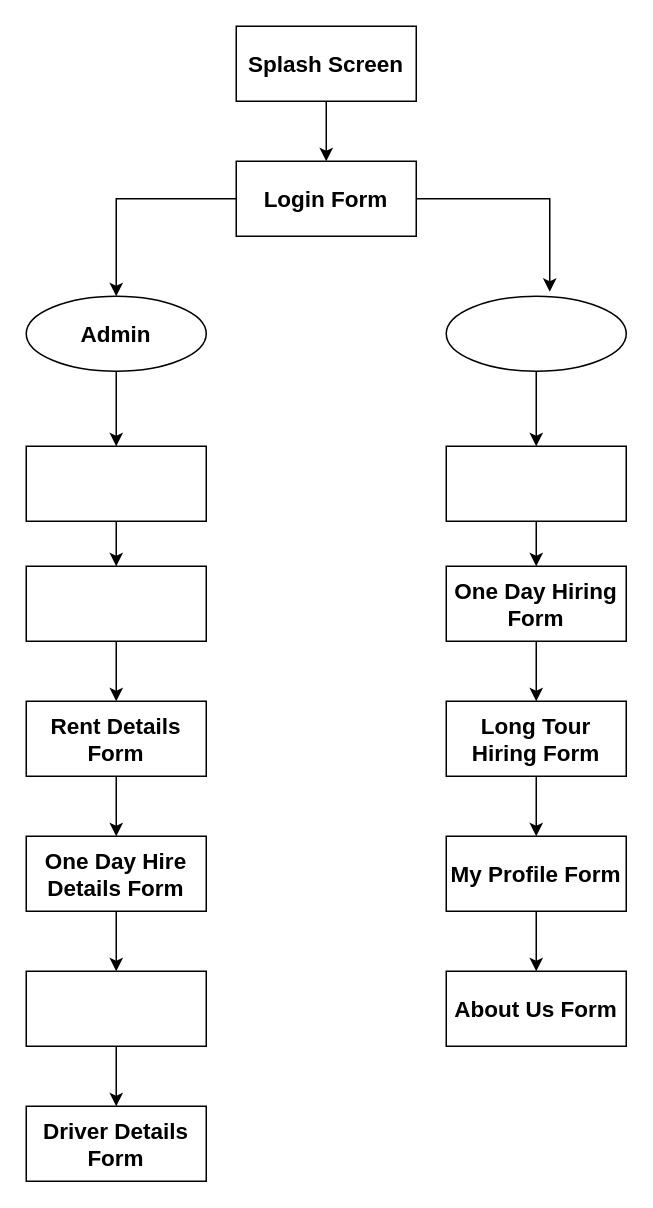
Some shapes in this 653 by 1208 pixel diagram are drawn without their labels. The shapes that lost their labels are listed below. From the top down, each one's centre as x and y in pixels, then its label:
(535,333): Driver
(115,483): Dashboard Form
(535,483): Renting Form
(115,603): Vehicle Details Form
(115,1008): Long Tour Hire Form
